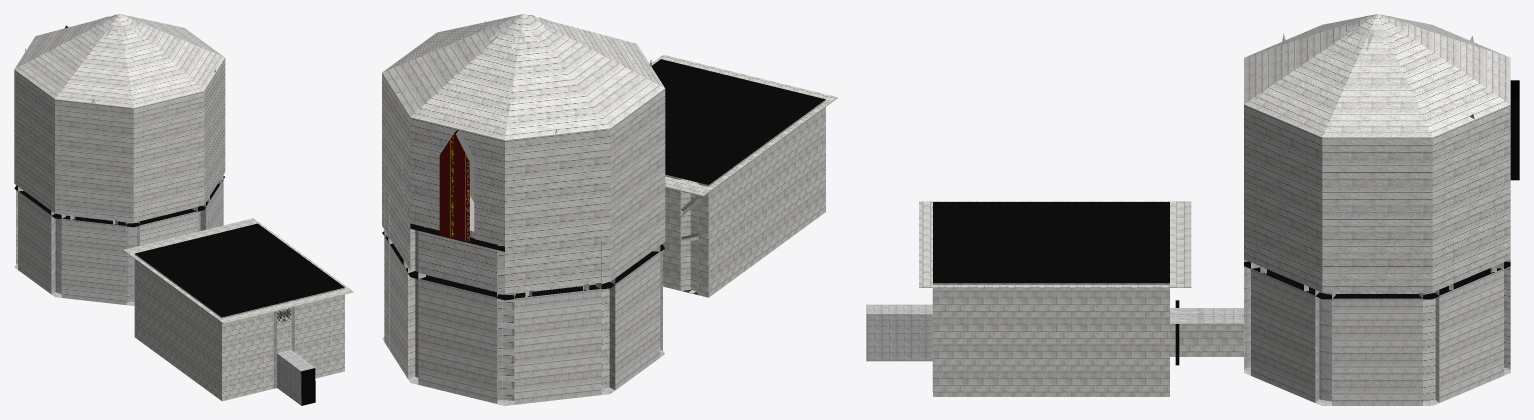
The model's file is TempleofTime.obj.
3 views of the same model, side by side, from view 1: azimuth 30°, elevation 25°; view 2: azimuth 150°, elevation 25°; view 3: azimuth 270°, elevation 25° (orthographic). The views are drawn at different scales.
Visible parts, largest first — view 1: TempleofTime, Cube_Cube.001; view 2: TempleofTime, Cube_Cube.001; view 3: TempleofTime, Cube_Cube.001.
Part boxes in pixels (x1,y1,x2,y2): TempleofTime: (14,14,344,405); Cube_Cube.001: (123,218,353,323); TempleofTime: (382,14,825,405); Cube_Cube.001: (652,54,837,196); TempleofTime: (866,14,1519,405); Cube_Cube.001: (919,201,1191,287).
Bounding box in the file's own units: 576 × 816 × 1411.
